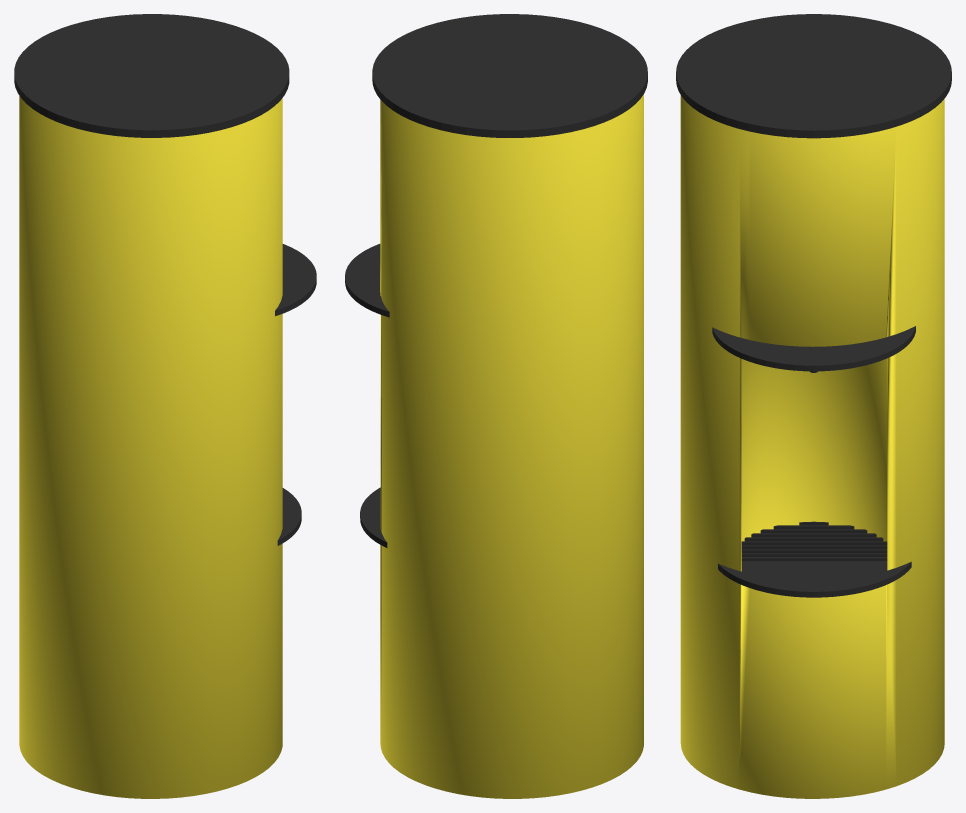
File: Mate.fbx
The picture shows the model from 3 angles, left to right: view 1: azimuth 30°, elevation 25°; view 2: azimuth 150°, elevation 25°; view 3: azimuth 270°, elevation 25°; orthographic projection.
Parts seen in each view (by area): view 1: Cylinder.063, Cylinder.068, Cylinder.064, Cylinder.067; view 2: Cylinder.063, Cylinder.068, Cylinder.064, Cylinder.067; view 3: Cylinder.063, Cylinder.068, Cylinder.067, Cylinder.064.
Boxes of the visible parts, box(x1,y1,x2,y2) form: Cylinder.063: box(19, 96, 282, 798); Cylinder.068: box(14, 14, 289, 137); Cylinder.064: box(275, 244, 316, 316); Cylinder.067: box(277, 488, 301, 545); Cylinder.063: box(380, 94, 643, 798); Cylinder.068: box(372, 14, 647, 137); Cylinder.064: box(345, 244, 389, 317); Cylinder.067: box(360, 487, 387, 547); Cylinder.063: box(680, 95, 944, 798); Cylinder.068: box(676, 14, 951, 138); Cylinder.067: box(718, 521, 911, 597); Cylinder.064: box(712, 326, 915, 371).
Bounding box in the file's own units: 163 × 385 × 143.
